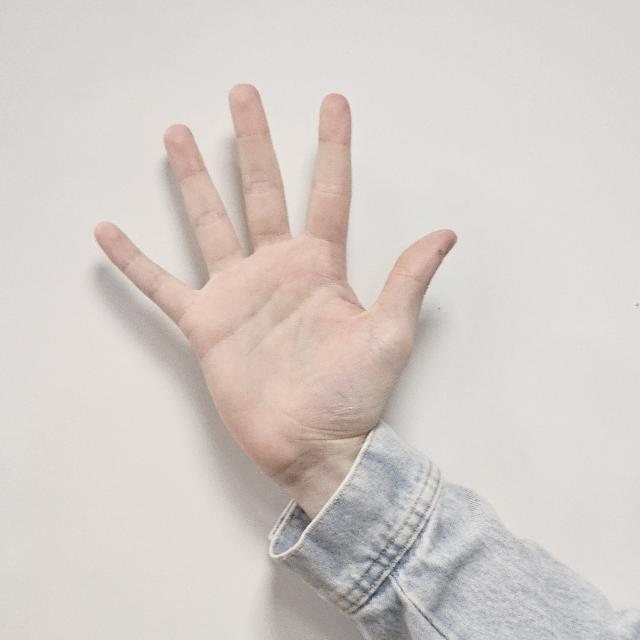X: (86, 84, 458, 486)
